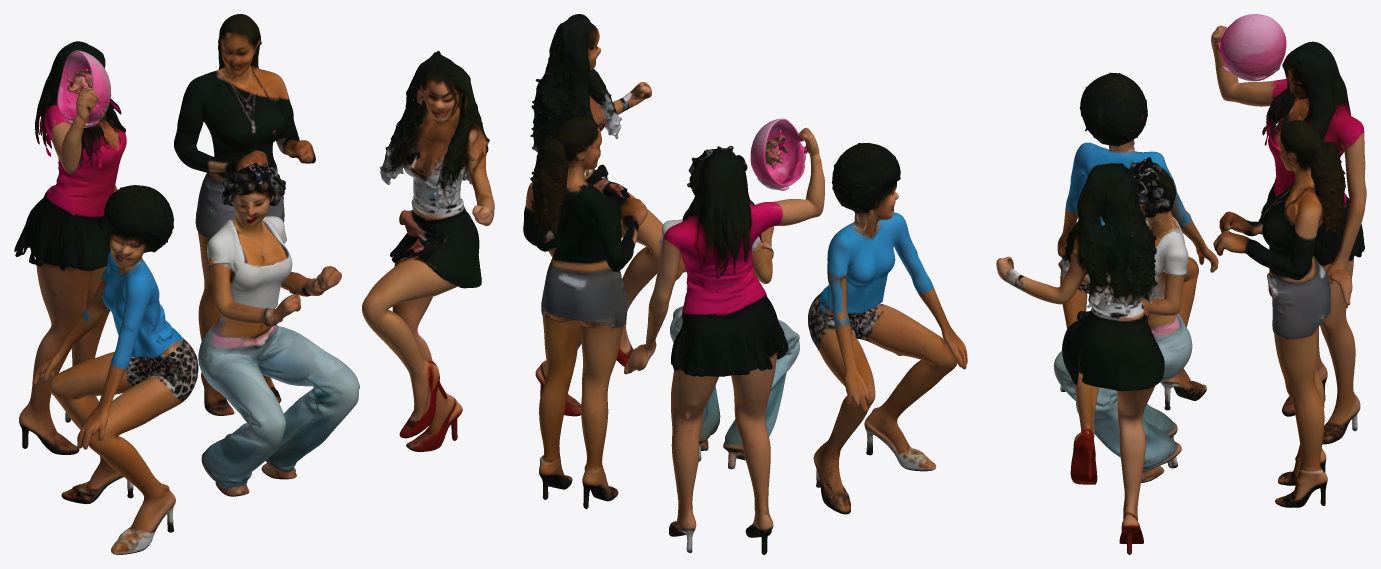
The model's file is group-dancers.glb.
The picture shows the model from 3 angles, left to right: view 1: azimuth 30°, elevation 25°; view 2: azimuth 150°, elevation 25°; view 3: azimuth 270°, elevation 25°; orthographic projection. The views are drawn at different scales.
Parts seen in each view (by area): view 1: tripo_node_e73f99b1-9e86-4638-ae5a-874a203580a5; view 2: tripo_node_e73f99b1-9e86-4638-ae5a-874a203580a5; view 3: tripo_node_e73f99b1-9e86-4638-ae5a-874a203580a5.
Boxes of the visible parts, bbox=[...] form: tripo_node_e73f99b1-9e86-4638-ae5a-874a203580a5: bbox=[14, 14, 494, 554]; tripo_node_e73f99b1-9e86-4638-ae5a-874a203580a5: bbox=[523, 14, 967, 554]; tripo_node_e73f99b1-9e86-4638-ae5a-874a203580a5: bbox=[996, 14, 1366, 554].
Bounding box in the file's own units: 1 × 0.9504 × 0.7992.
Materials: 1 (1 with a texture image).
